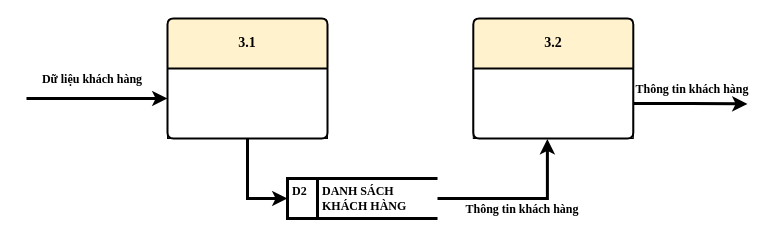
Image size: 784x237. Some labels were removed from this diagram. The centre of each missing label's shape, as x and y in pixels:
THÊM KHÁCH HÀNG: the point at 247,103
TRA CỨU KHÁCH HÀNG: the point at 552,103
